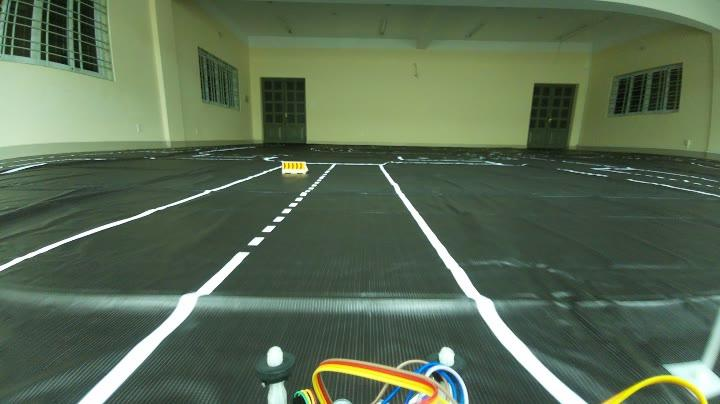roadblock: (278, 155, 314, 179)
